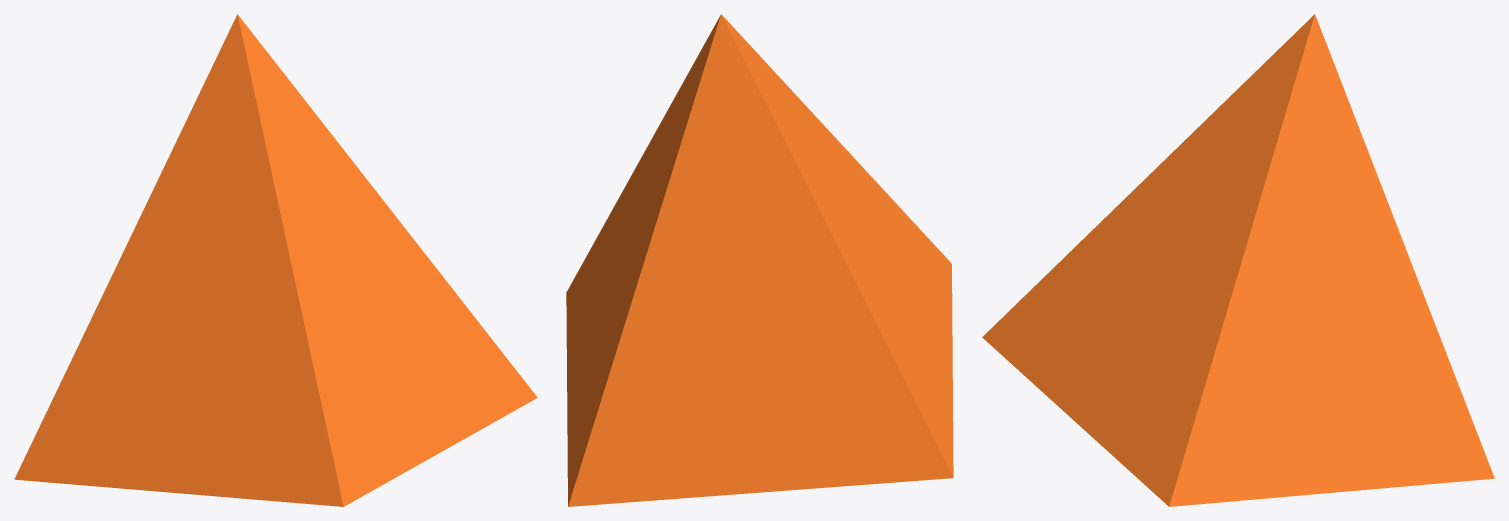
3 renders of one model, left to right at view 1: azimuth 30°, elevation 25°; view 2: azimuth 150°, elevation 25°; view 3: azimuth 270°, elevation 25°, orthographic.
Visible parts, largest first — view 1: mesh_id26; view 2: mesh_id26; view 3: mesh_id26.
Boxes of the visible parts, <box> form: mesh_id26: <box>14,14,537,506</box>; mesh_id26: <box>566,14,953,506</box>; mesh_id26: <box>982,14,1494,506</box>.
Bounding box in the file's own units: 0.2376 × 0.219 × 0.234.
Materials: 1 (1 with a texture image).
